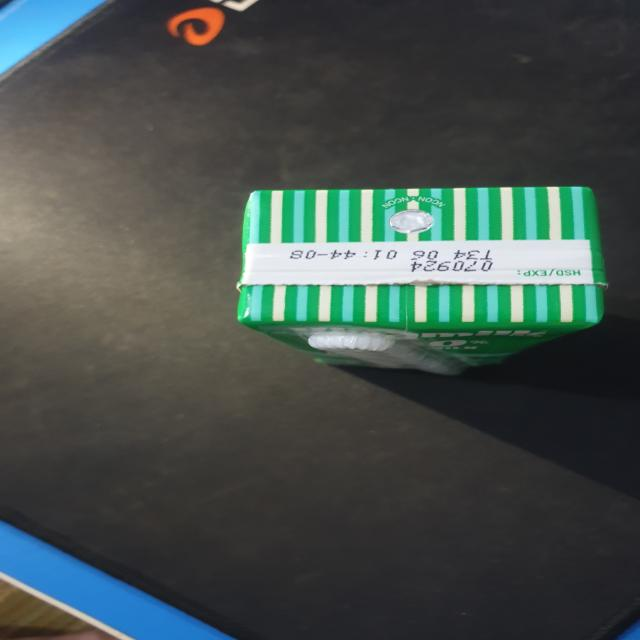Vina: (236, 186, 605, 376)
